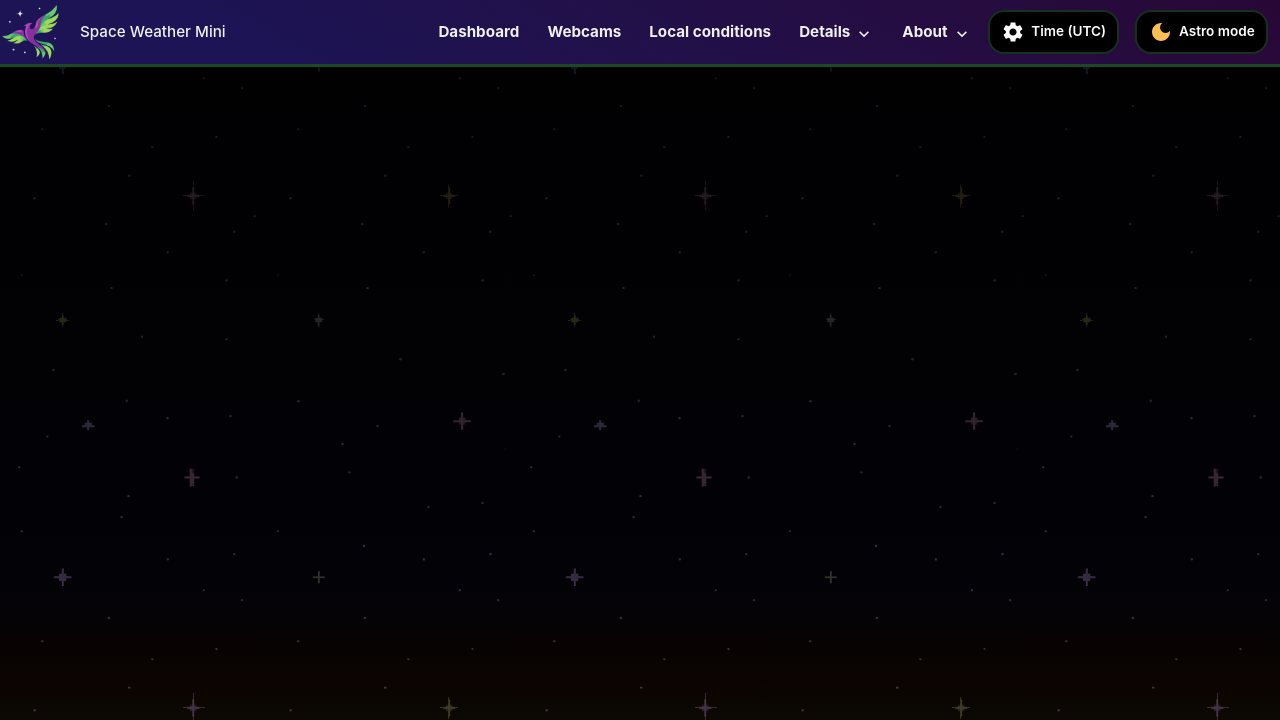
Test: Time modal (ticket 02) › reflects a stored UTC choice as checked
The width and height of the screenshot is (1280, 720).
Click the button "Time (UTC)" at (1053, 32), box top-left (988, 10), bottom-right (1119, 54)
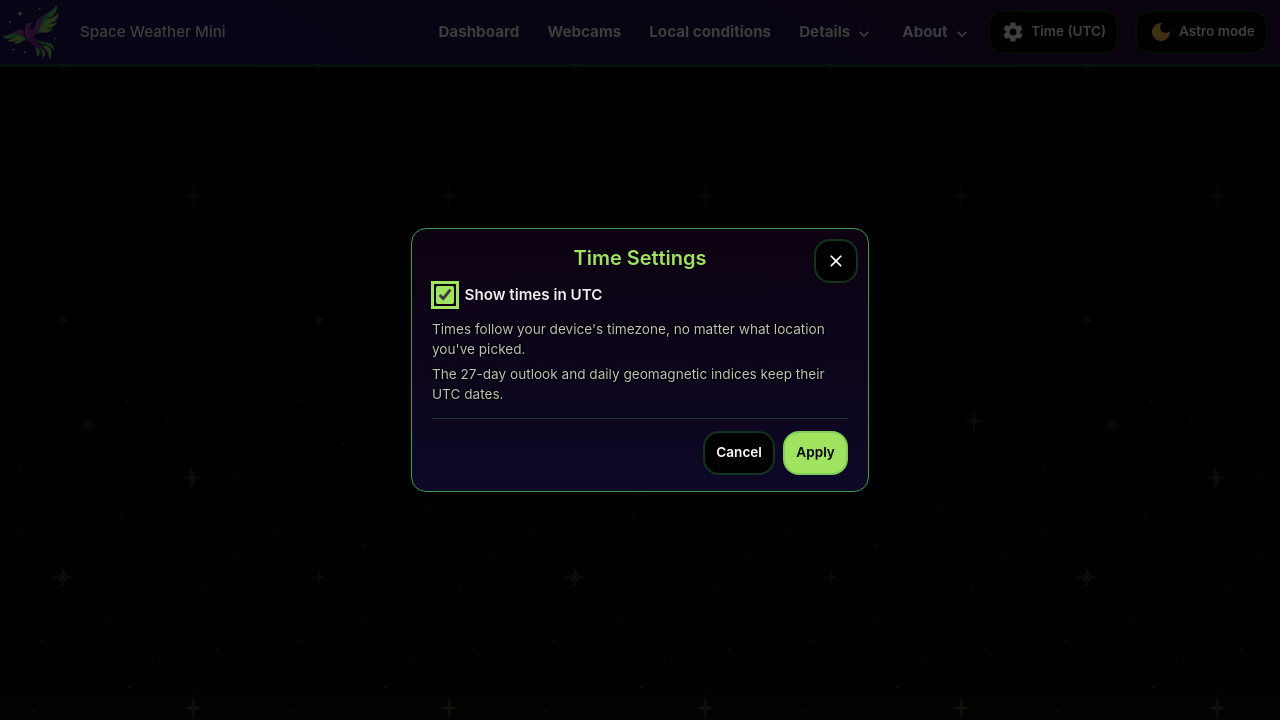
Check: the checkbox labelled "Show times in UTC" is checked, box top-left (436, 286), bottom-right (454, 304)
